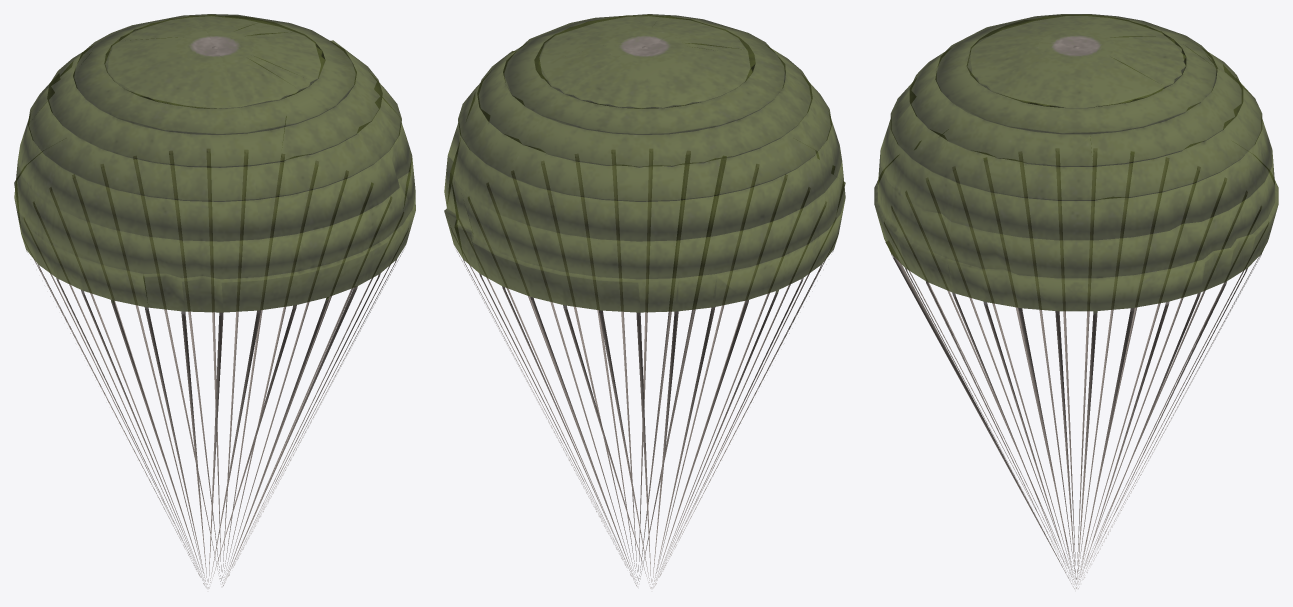
File: chute.glb
The picture shows the model from 3 angles, left to right: view 1: azimuth 30°, elevation 25°; view 2: azimuth 150°, elevation 25°; view 3: azimuth 270°, elevation 25°; orthographic projection.
Visible parts, largest first — view 1: defaultMaterial; view 2: defaultMaterial; view 3: defaultMaterial.
Boxes of the visible parts, x1=… form: defaultMaterial: x1=14, y1=14, x2=415, y2=588; defaultMaterial: x1=444, y1=14, x2=845, y2=588; defaultMaterial: x1=874, y1=14, x2=1278, y2=588.
Size of the model in its own units: 3.73 by 5.6 by 3.77.
1 material, 1 textured.
